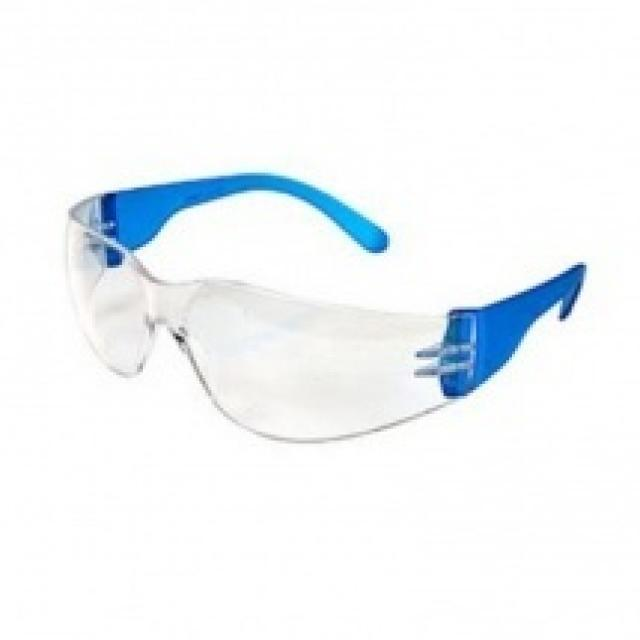Goggles: (36, 161, 605, 462)
